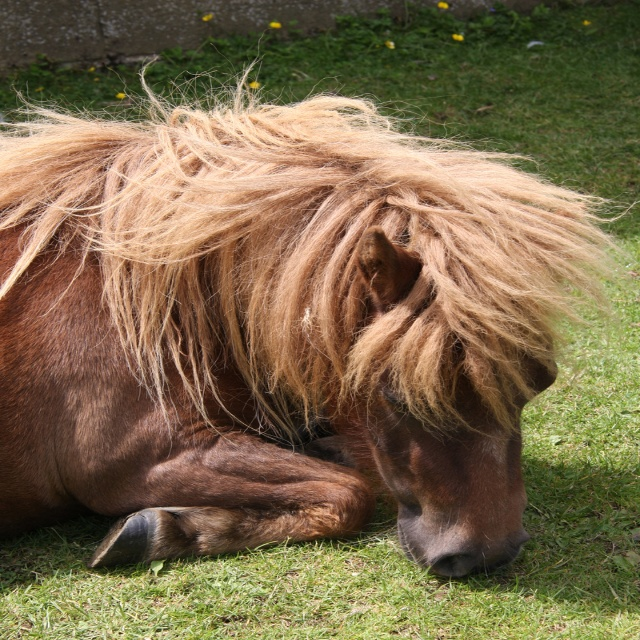Horse: (0, 36, 640, 580)
